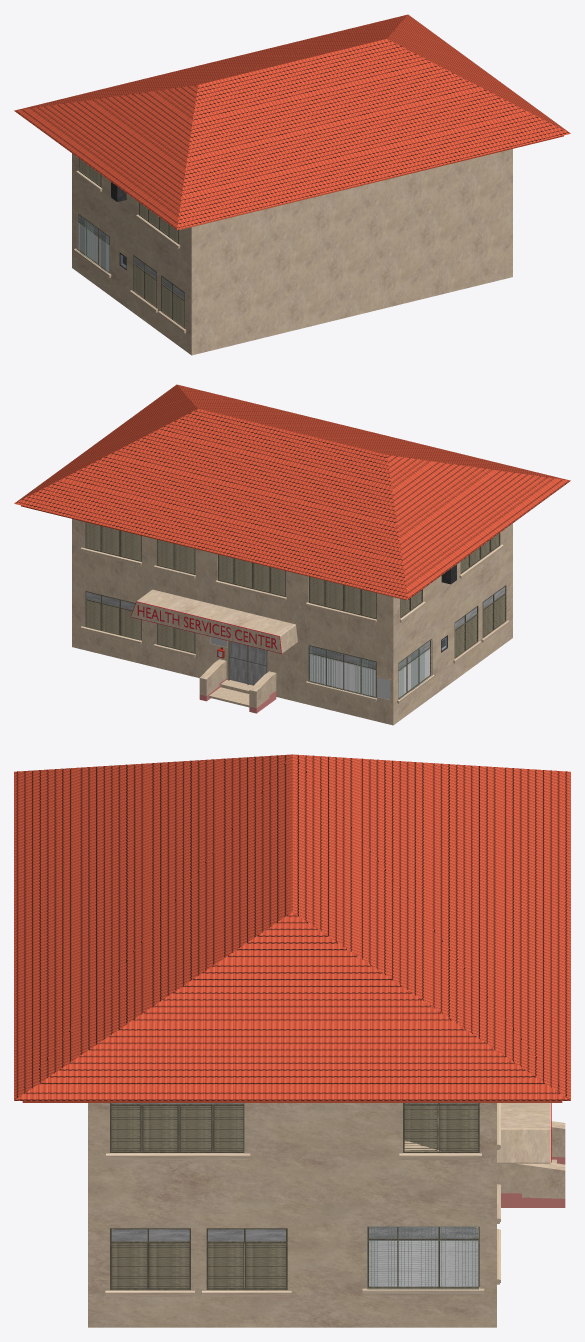
The model's file is health service center NEW.fbx.
3 renders of one model, top to bottom at view 1: azimuth 30°, elevation 25°; view 2: azimuth 150°, elevation 25°; view 3: azimuth 270°, elevation 25°, orthographic. The views are drawn at different scales.
Parts seen in each view (by area): view 1: Cube.032, Cube, Cube.068, Cube.072, Cube.031; view 2: Cube.032, Cube, Cube.007, Cube.141, Cube.002, Cube.033, Cube.146, Cube.068, Text, Cube.072, Cube.017, Cube.031 (+10 smaller); view 3: Cube.032, Cube, Cube.261, Cube.002, Cube.007, Cube.240, Cube.252, Cube.210, Cube.266, Cube.239, Cube.251, Cube.226 (+11 smaller).
Part boxes in pixels (left/top/right/bottom): Cube.032: left=14, top=14, right=570, bottom=229; Cube: left=72, top=149, right=512, bottom=355; Cube.068: left=78, top=222, right=109, bottom=271; Cube.072: left=80, top=217, right=108, bottom=273; Cube.031: left=178, top=135, right=563, bottom=230; Cube.032: left=14, top=384, right=570, bottom=599; Cube: left=72, top=519, right=512, bottom=725; Cube.007: left=130, top=589, right=297, bottom=653; Cube.141: left=310, top=654, right=375, bottom=696; Cube.002: left=199, top=659, right=276, bottom=713; Cube.033: left=229, top=641, right=266, bottom=685; Cube.146: left=308, top=646, right=375, bottom=697; Cube.068: left=398, top=648, right=430, bottom=697; Text: left=137, top=605, right=277, bottom=649; Cube.072: left=399, top=639, right=432, bottom=699; Cube.017: left=215, top=580, right=376, bottom=622; Cube.031: left=21, top=505, right=406, bottom=600; Cube.032: left=14, top=754, right=570, bottom=1100; Cube: left=88, top=1103, right=496, bottom=1327; Cube.261: left=369, top=1240, right=478, bottom=1286; Cube.002: left=497, top=1121, right=565, bottom=1207; Cube.007: left=497, top=1103, right=551, bottom=1163; Cube.240: left=149, top=1243, right=189, bottom=1288; Cube.252: left=246, top=1243, right=285, bottom=1288; Cube.210: left=439, top=1105, right=478, bottom=1150; Cube.266: left=367, top=1226, right=478, bottom=1289; Cube.239: left=111, top=1243, right=147, bottom=1288; Cube.251: left=208, top=1243, right=243, bottom=1288; Cube.226: left=143, top=1106, right=177, bottom=1150.
Size of the model in its own units: 1048 by 540 by 749.
